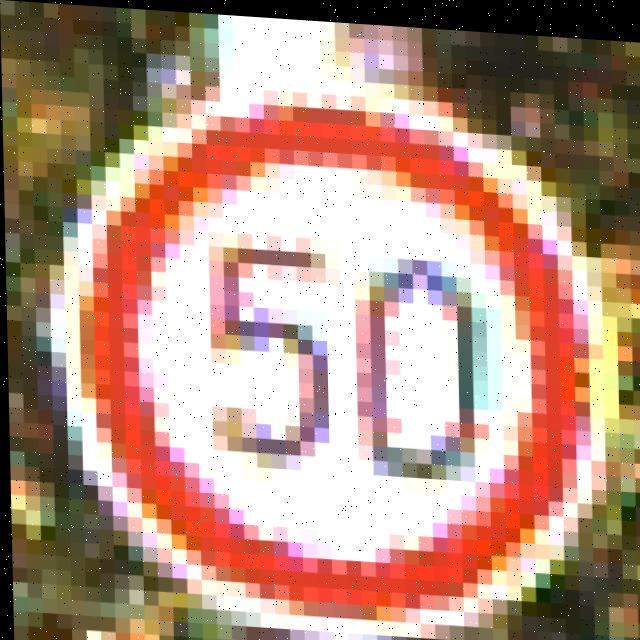speed_limit_50: (27, 39, 605, 640)
